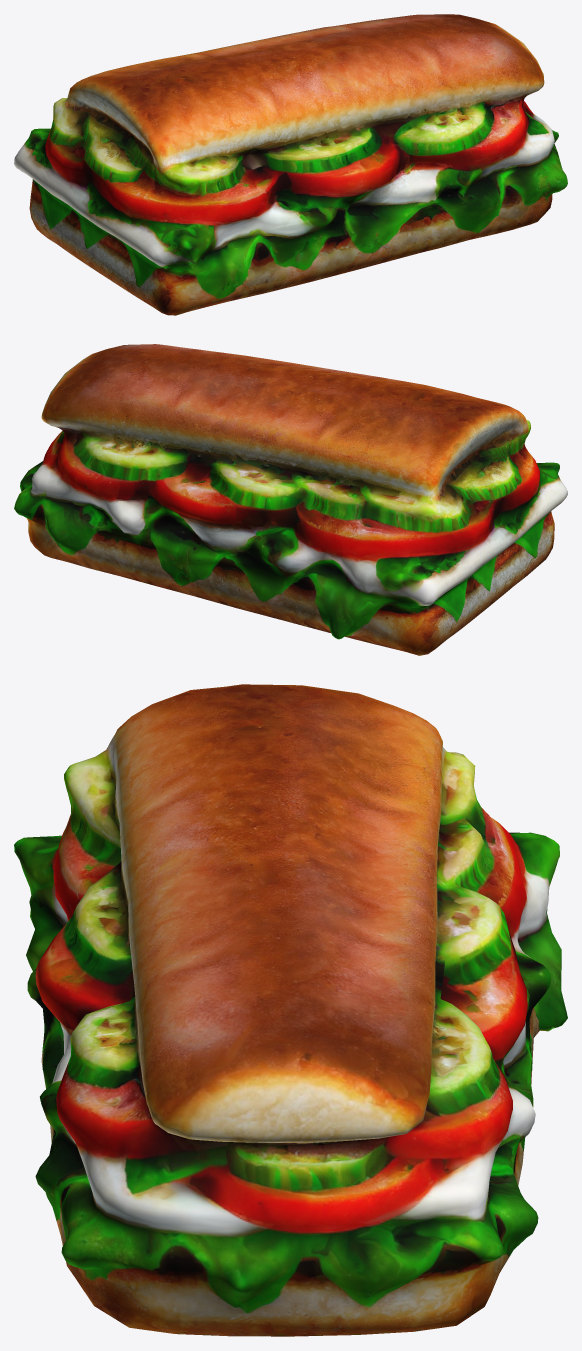
File: burger.glb
3 renders of one model, top to bottom at view 1: azimuth 30°, elevation 25°; view 2: azimuth 150°, elevation 25°; view 3: azimuth 270°, elevation 25°, orthographic. The views are drawn at different scales.
Parts seen in each view (by area): view 1: Sandwich_0; view 2: Sandwich_0; view 3: Sandwich_0.
Part boxes in pixels (<box>): Sandwich_0: <box>14,14,567,315</box>; Sandwich_0: <box>14,344,567,655</box>; Sandwich_0: <box>14,684,567,1336</box>.
Size of the model in its own units: 0.1836 by 0.0723 by 0.1088.
1 material, 1 textured.
